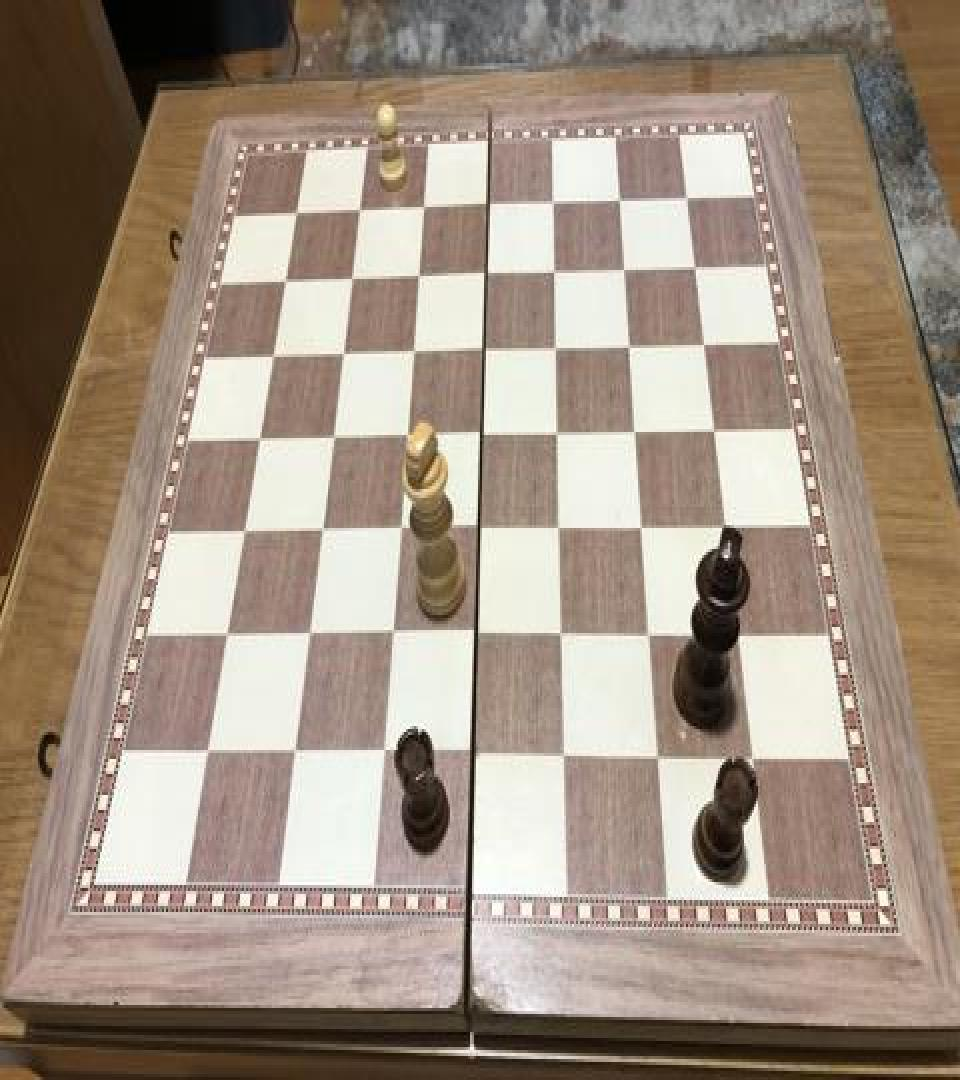xcorner: (307, 514, 331, 551), (229, 514, 253, 551), (741, 742, 765, 779), (552, 739, 576, 776), (676, 183, 700, 219), (609, 186, 633, 222), (542, 189, 566, 225), (476, 190, 500, 226), (411, 194, 435, 230), (347, 196, 371, 232), (283, 198, 307, 234), (684, 254, 708, 290), (613, 255, 637, 291), (543, 258, 567, 294), (406, 261, 430, 297), (338, 264, 362, 300), (272, 266, 296, 302), (693, 330, 717, 366), (618, 332, 642, 368), (545, 333, 569, 369), (472, 334, 496, 370), (400, 338, 424, 374), (329, 339, 353, 375), (259, 340, 283, 376), (703, 416, 727, 452), (624, 417, 648, 453), (546, 418, 570, 454), (469, 418, 493, 454), (394, 420, 418, 456), (319, 422, 343, 458), (245, 423, 269, 459), (714, 512, 738, 548), (630, 512, 654, 548), (548, 513, 572, 549), (466, 513, 490, 549), (386, 513, 410, 549), (727, 620, 751, 656), (638, 620, 662, 656), (550, 620, 574, 656), (463, 618, 487, 654), (378, 618, 402, 654), (294, 618, 318, 654), (212, 618, 236, 654), (646, 741, 670, 777), (460, 738, 484, 774), (369, 738, 393, 774), (280, 736, 304, 772), (192, 735, 216, 771), (474, 260, 498, 295)
